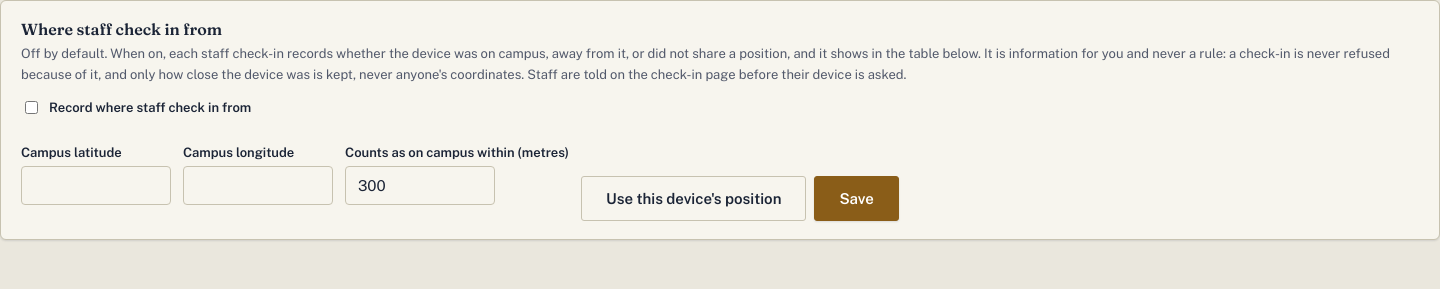
Test case: the administrator's setting for it › can fill the campus position from the device the administrator is on
This screenshot has width=1440, height=289.
Click the button "Use this device's position": (694, 198) top-left (581, 176), bottom-right (806, 221)
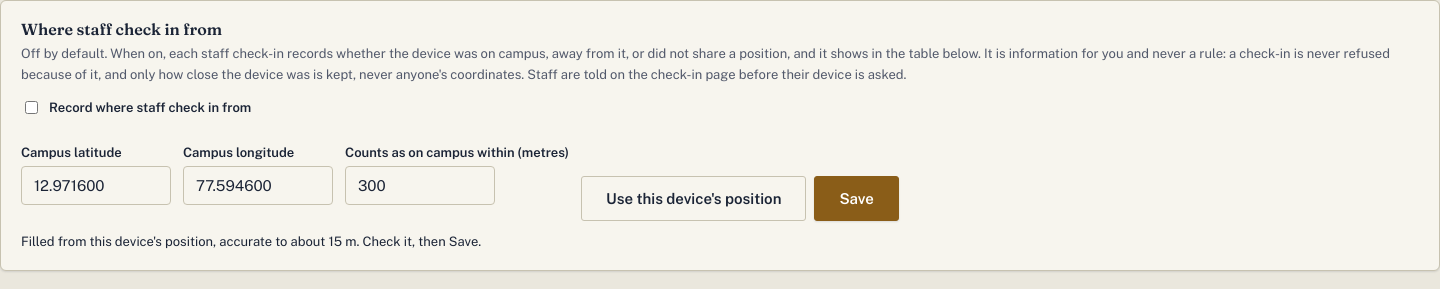
Now the field labelled "Campus latitude" holds "12.971600", box top-left (21, 166), bottom-right (171, 205)
Now the field labelled "Campus longitude" holds "77.594600", box top-left (183, 166), bottom-right (333, 205)
